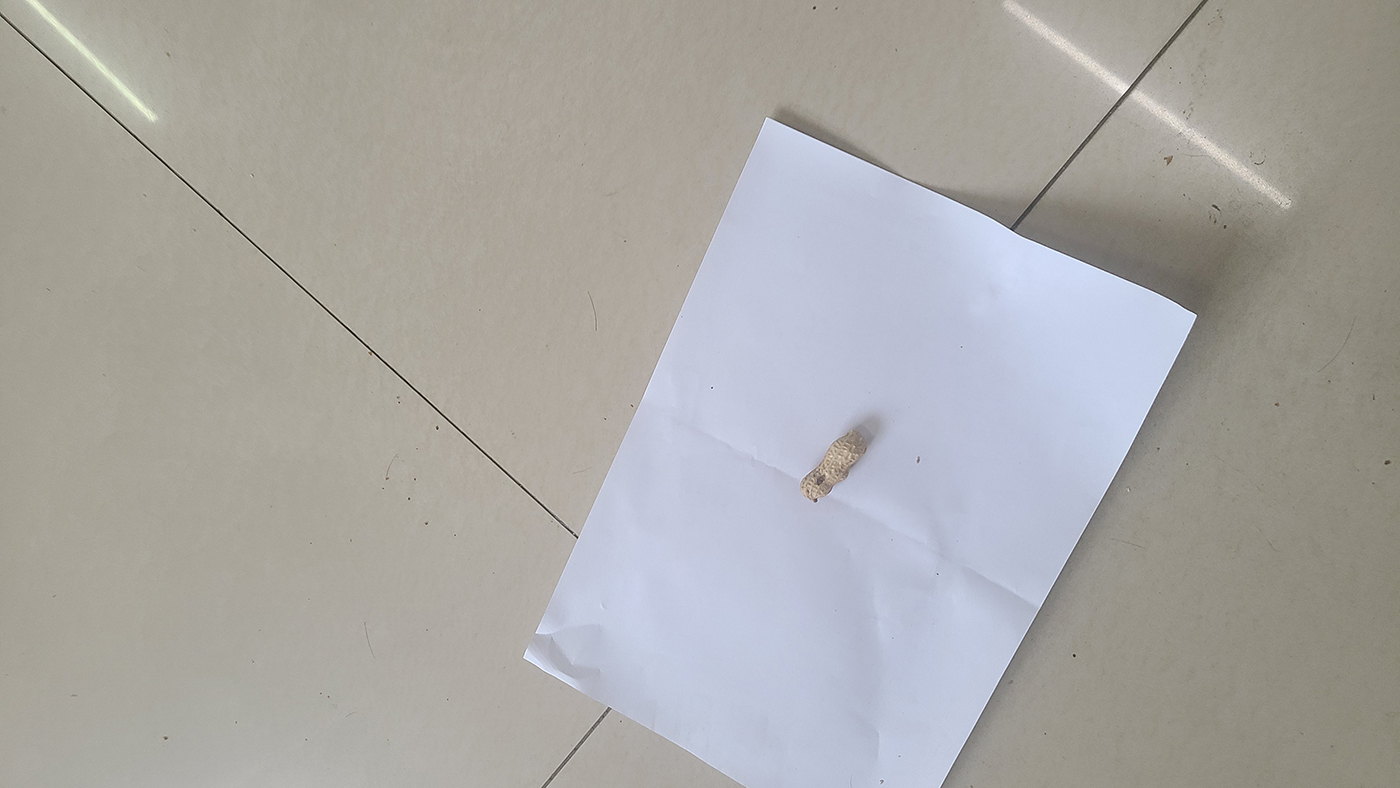h: (799, 431, 868, 502)
